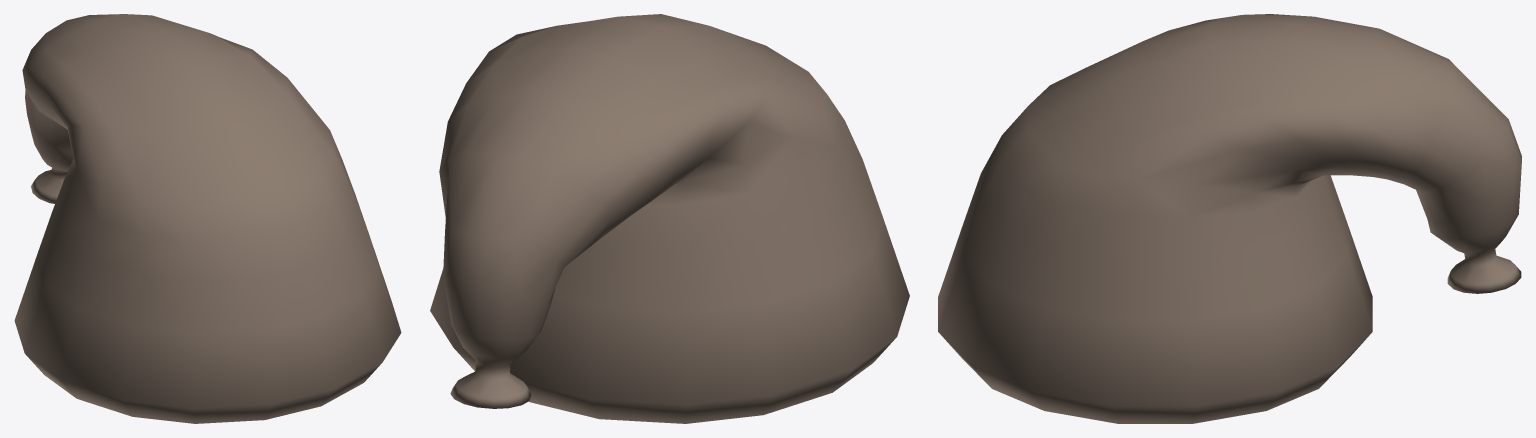
The model's file is model_sacomurcho_01.fbx.
3 views of the same model, side by side, from view 1: azimuth 30°, elevation 25°; view 2: azimuth 150°, elevation 25°; view 3: azimuth 270°, elevation 25° (orthographic). The views are drawn at different scales.
Parts seen in each view (by area): view 1: Circle.002; view 2: Circle.002; view 3: Circle.002.
Part boxes in pixels (box(x1,y1,x2,y2)): Circle.002: box(14, 14, 401, 423); Circle.002: box(430, 14, 909, 423); Circle.002: box(938, 14, 1521, 423).
Size of the model in its own units: 227 by 179 by 305.
